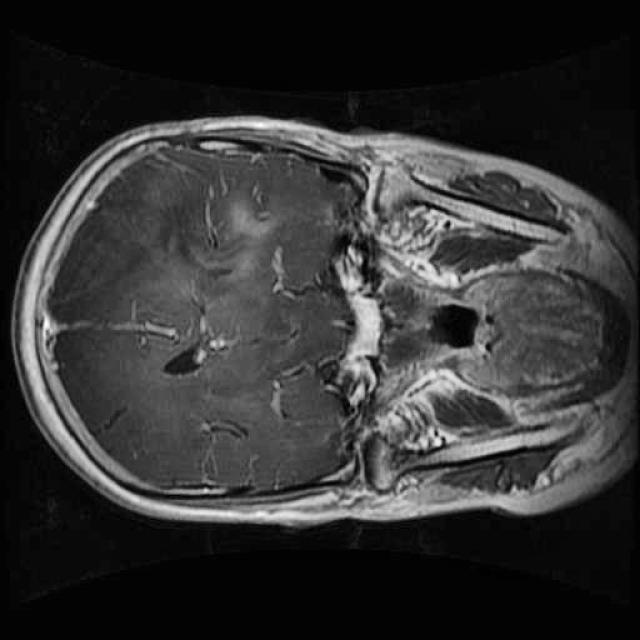Tumor: (137, 169, 306, 323)
